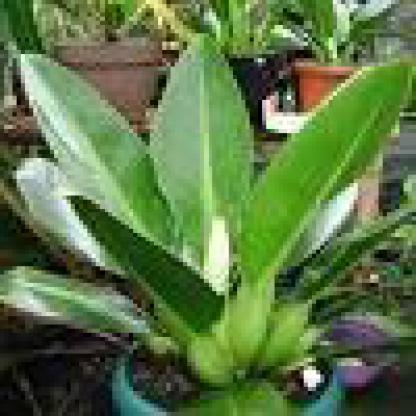Melati: (59, 34, 330, 292)
